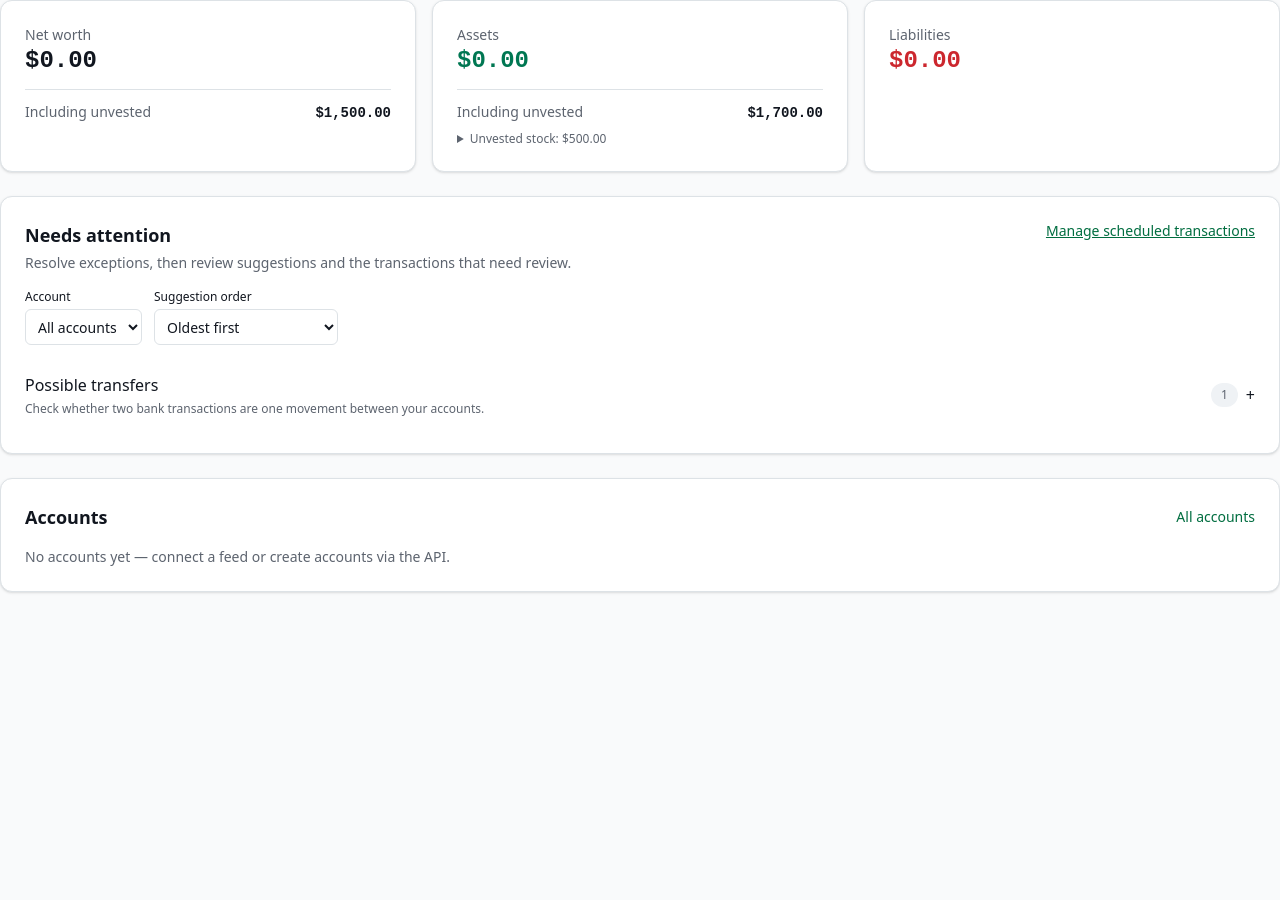
Dashboard — Needs attention › shows counts first and fetches cards only after expanding a group
Click the button "Possible transfers" at {"x": 92, "y": 385}, box x1=25 y1=373 x2=1255 y2=417
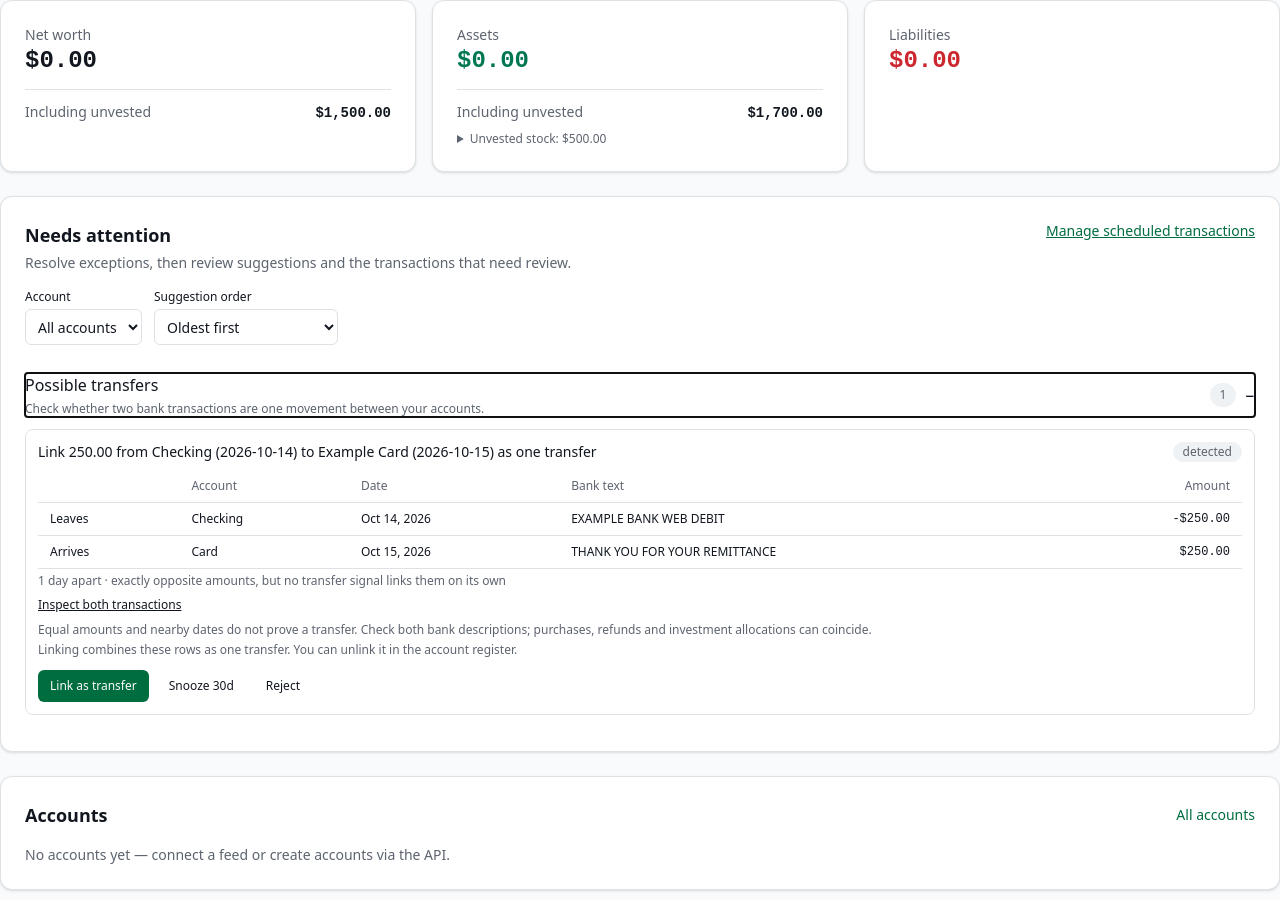
Check: the button "Link as transfer" is shown, box x1=38 y1=670 x2=149 y2=702
